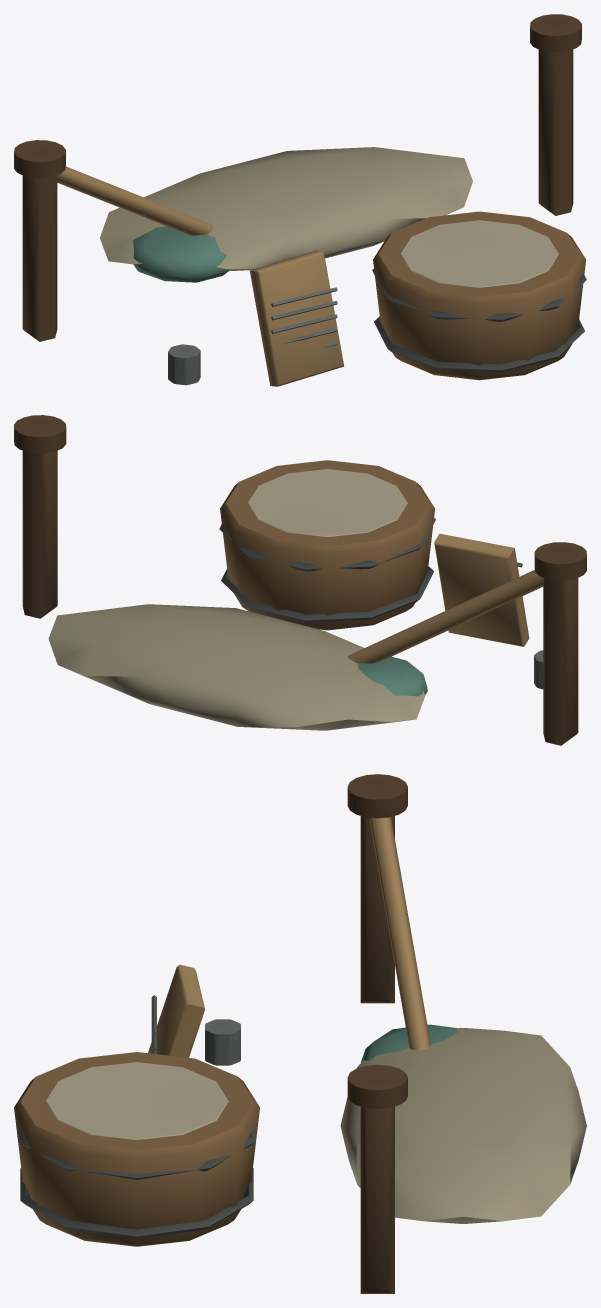
File: washline_c.glb
3 views of the same model, one above another, from view 1: azimuth 30°, elevation 25°; view 2: azimuth 150°, elevation 25°; view 3: azimuth 270°, elevation 25° (orthographic). The views are drawn at different scales.
Parts seen in each view (by area): view 1: Surface; view 2: Surface; view 3: Surface.
Boxes of the visible parts, x1,y1,x2,y2 form: Surface: (14, 14, 586, 386); Surface: (14, 415, 586, 745); Surface: (14, 774, 586, 1293).
Bounding box in the file's own units: 4.35 × 1.46 × 3.33.
